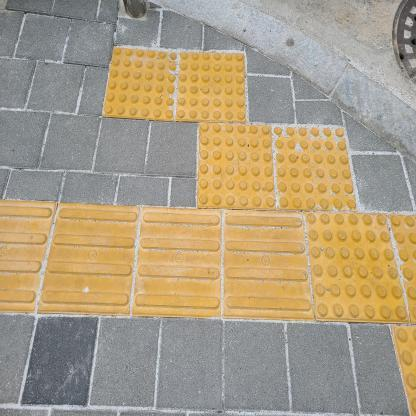podotacti: (0, 198, 415, 327), (97, 40, 366, 211)
